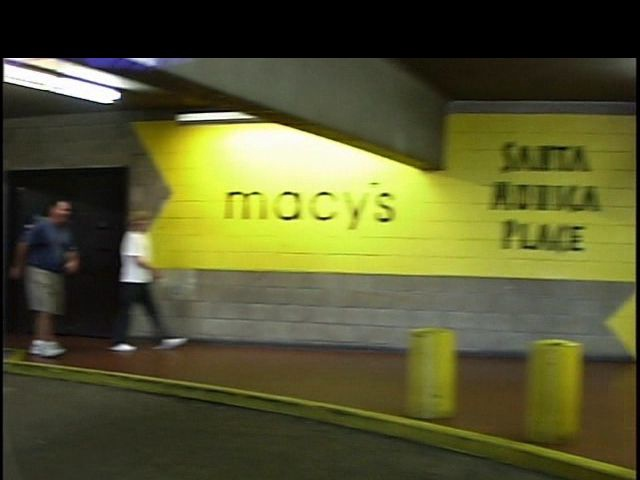person: (96, 200, 179, 367), (18, 188, 79, 361)
